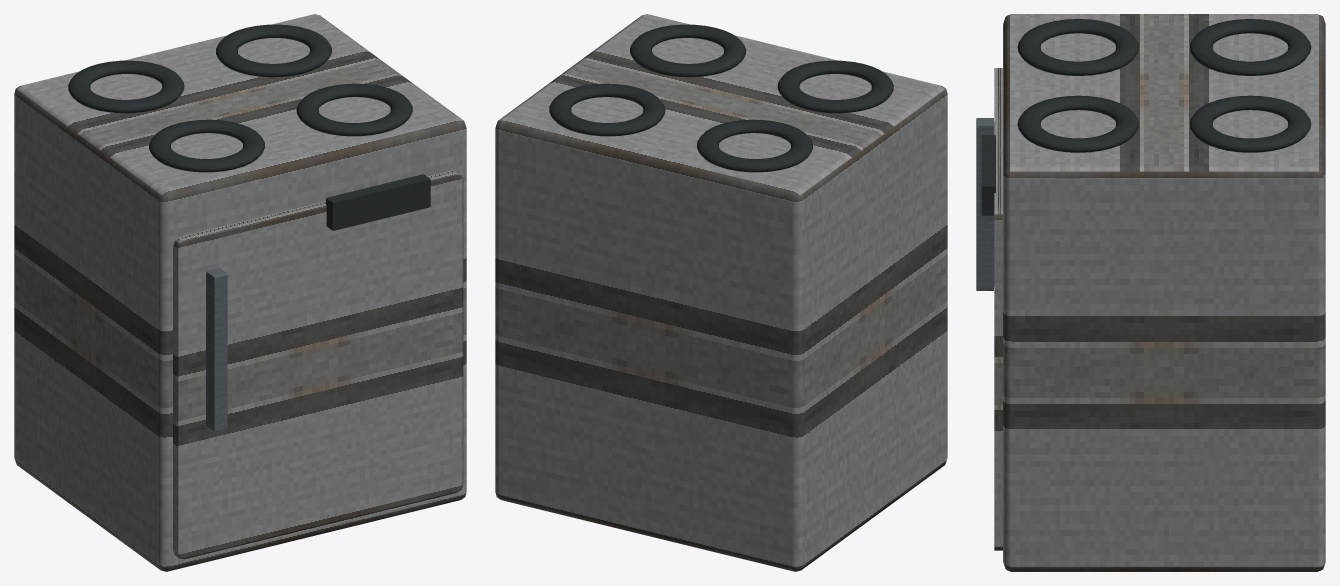
Rendered from stove.glb.
3 renders of one model, left to right at view 1: azimuth 30°, elevation 25°; view 2: azimuth 150°, elevation 25°; view 3: azimuth 270°, elevation 25°, orthographic. The views are drawn at different scales.
Visible parts, largest first — view 1: case, front, burner (×4), display, pull; view 2: case, burner (×4); view 3: case, burner (×4), front, pull, display.
Part boxes in pixels (x1,y1,x2,y2): case: (14,14,466,571); front: (173,170,463,559); burner (×4): (68,24,412,172); display: (326,174,430,230); pull: (206,267,227,432); case: (495,14,947,571); burner (×4): (549,24,893,172); case: (1003,14,1325,571); burner (×4): (1017,19,1311,152); front: (994,68,1002,550); pull: (976,118,994,290); display: (981,135,995,215).
Size of the model in its own units: 0.76 by 0.9203 by 0.702.
3 materials, 3 textured.
